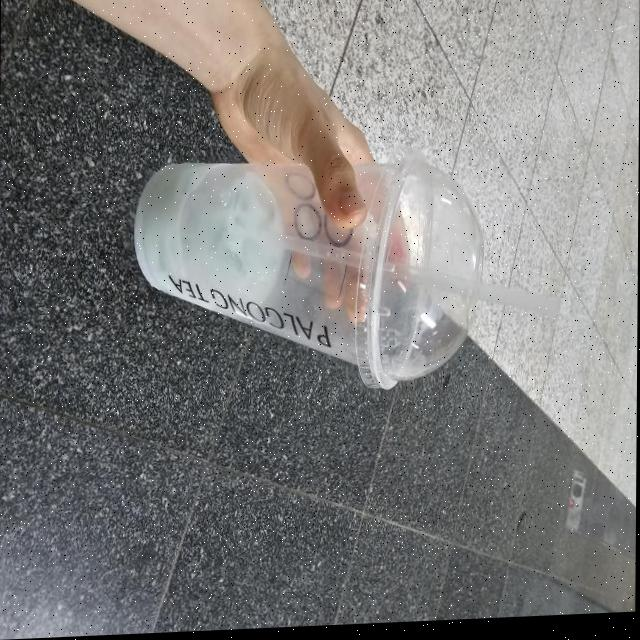cup: (129, 130, 494, 406)
